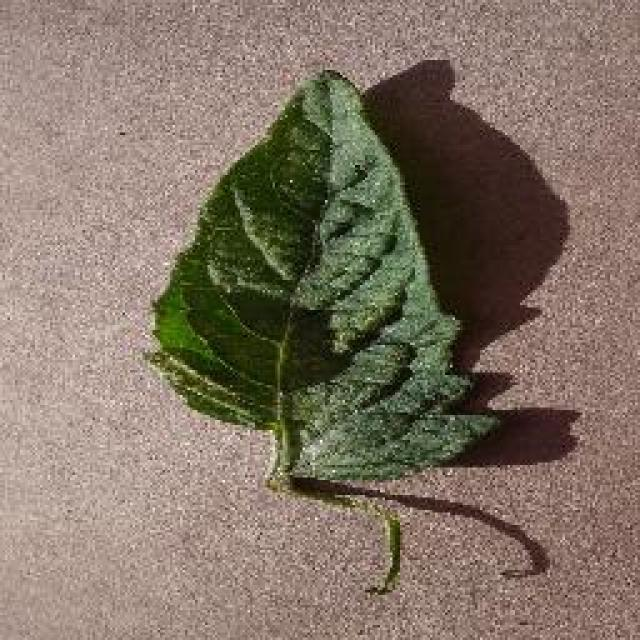Tomato spider mites leaf: (152, 68, 492, 482)
